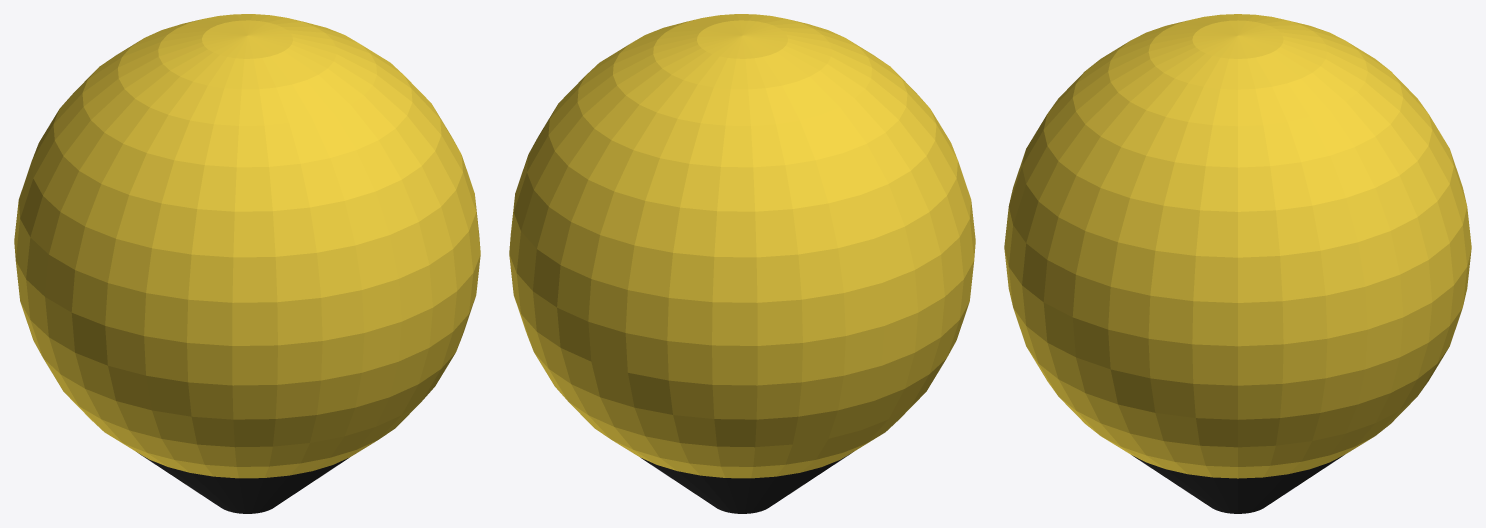
File: yellow.dae
The picture shows the model from 3 angles, left to right: view 1: azimuth 30°, elevation 25°; view 2: azimuth 150°, elevation 25°; view 3: azimuth 270°, elevation 25°; orthographic projection.
Visible parts, largest first — view 1: Sphere, Sphere_001; view 2: Sphere, Sphere_001; view 3: Sphere, Sphere_001.
Boxes of the visible parts, x1,y1,x2,y2 form: Sphere: (14, 14, 480, 478); Sphere_001: (137, 452, 349, 513); Sphere: (509, 14, 975, 478); Sphere_001: (640, 452, 852, 513); Sphere: (1004, 14, 1471, 478); Sphere_001: (1132, 455, 1343, 513).
Size of the model in its own units: 2 by 2 by 2.22.
